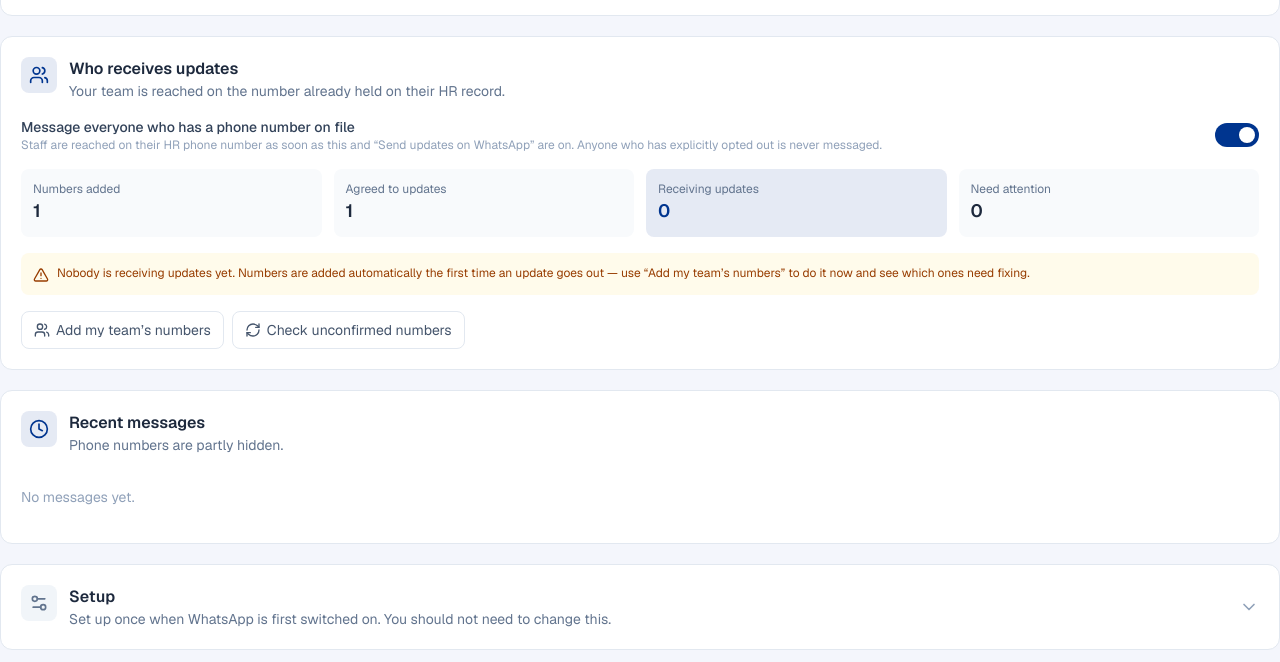
Test: WhatsAppSettingsSection — carbon copy › shows an unreadable copy number and says employees are unaffected
(page scrolled)
Click the button "Setup".
click(39, 603)  # box 1,565 -> 1279,649
(page scrolled)
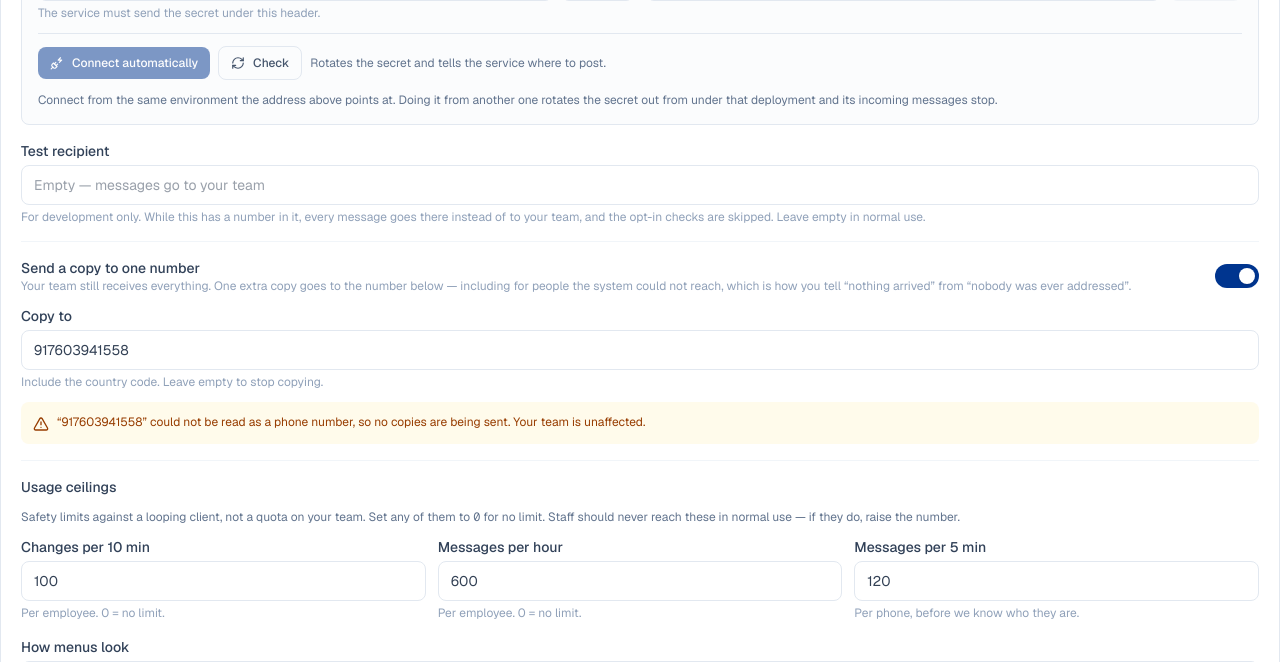
Expected: the text "your team is unaffected" is shown, 142,414 -> 645,430
Expected: the field with placeholder "Empty — no copies are sent" holds "917603941558", 21,330 -> 1259,370
